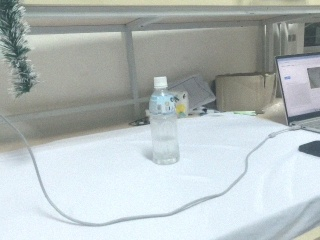bottle: (147, 75, 182, 166)
box: (214, 71, 280, 116)
mouse: (298, 139, 320, 161)
